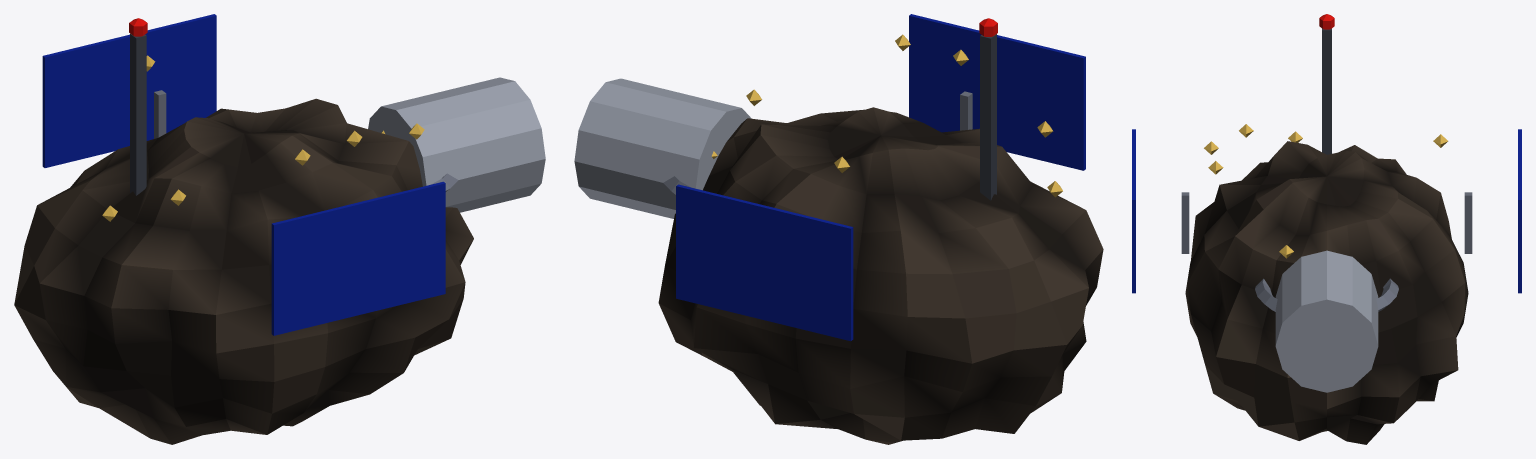
The model's file is asteroid_base.glb.
3 views of the same model, side by side, from view 1: azimuth 30°, elevation 25°; view 2: azimuth 150°, elevation 25°; view 3: azimuth 270°, elevation 25° (orthographic). The views are drawn at different scales.
Parts seen in each view (by area): view 1: asteroid_base; view 2: asteroid_base; view 3: asteroid_base.
Boxes of the visible parts, x1=… form: asteroid_base: x1=14, y1=14, x2=545, y2=444; asteroid_base: x1=574, y1=14, x2=1103, y2=444; asteroid_base: x1=1132, y1=14, x2=1521, y2=444.
Bounding box in the file's own units: 1.82 × 1.55 × 1.52.
